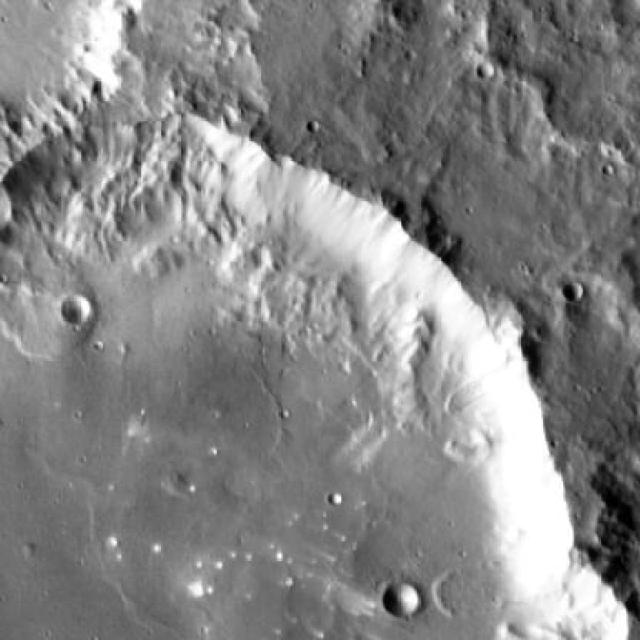crater: (0, 134, 571, 640), (385, 580, 426, 622), (66, 297, 95, 326), (50, 174, 78, 201), (567, 280, 587, 300)
